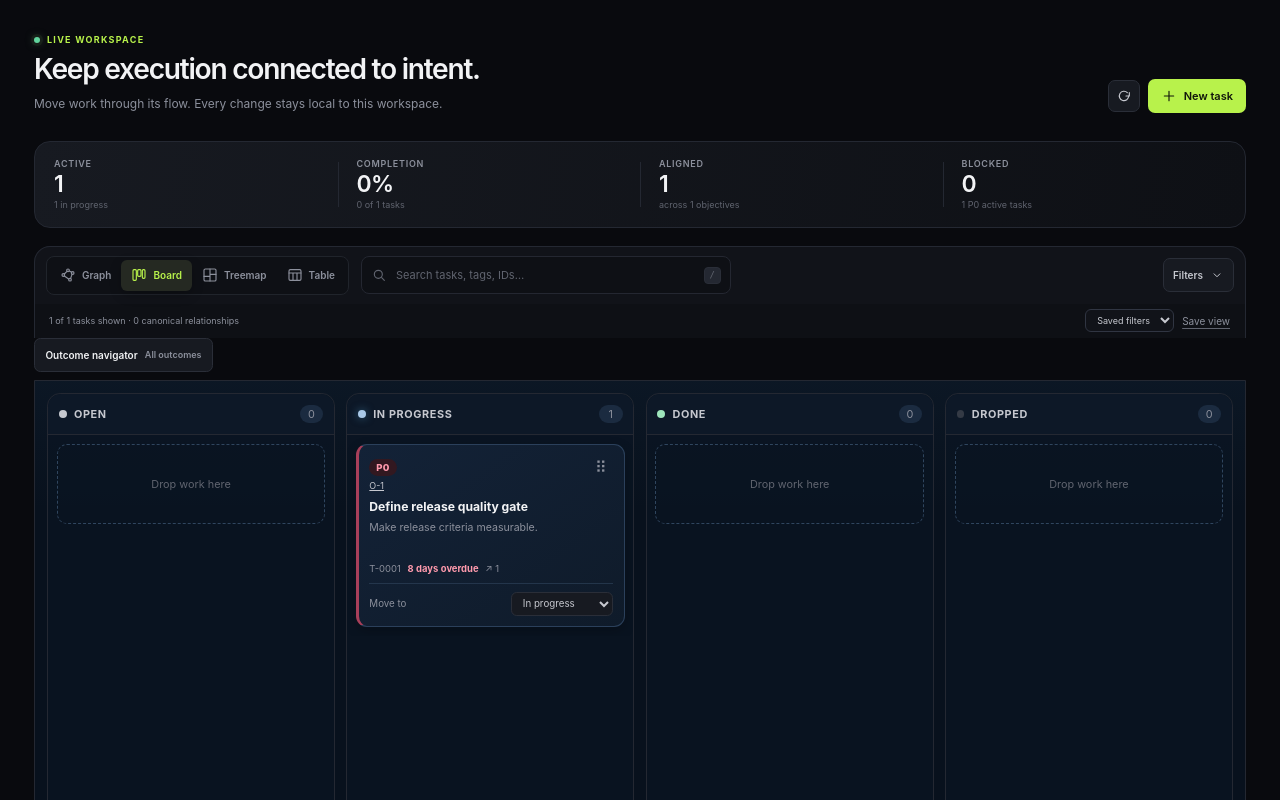
Test: WorkspacePage Board move-to-Done retention › rolls back a failed Done move instead of retaining it
Select "Done" in the dropdown labelled "Move to" at (562, 604), box [511,592,613,616]
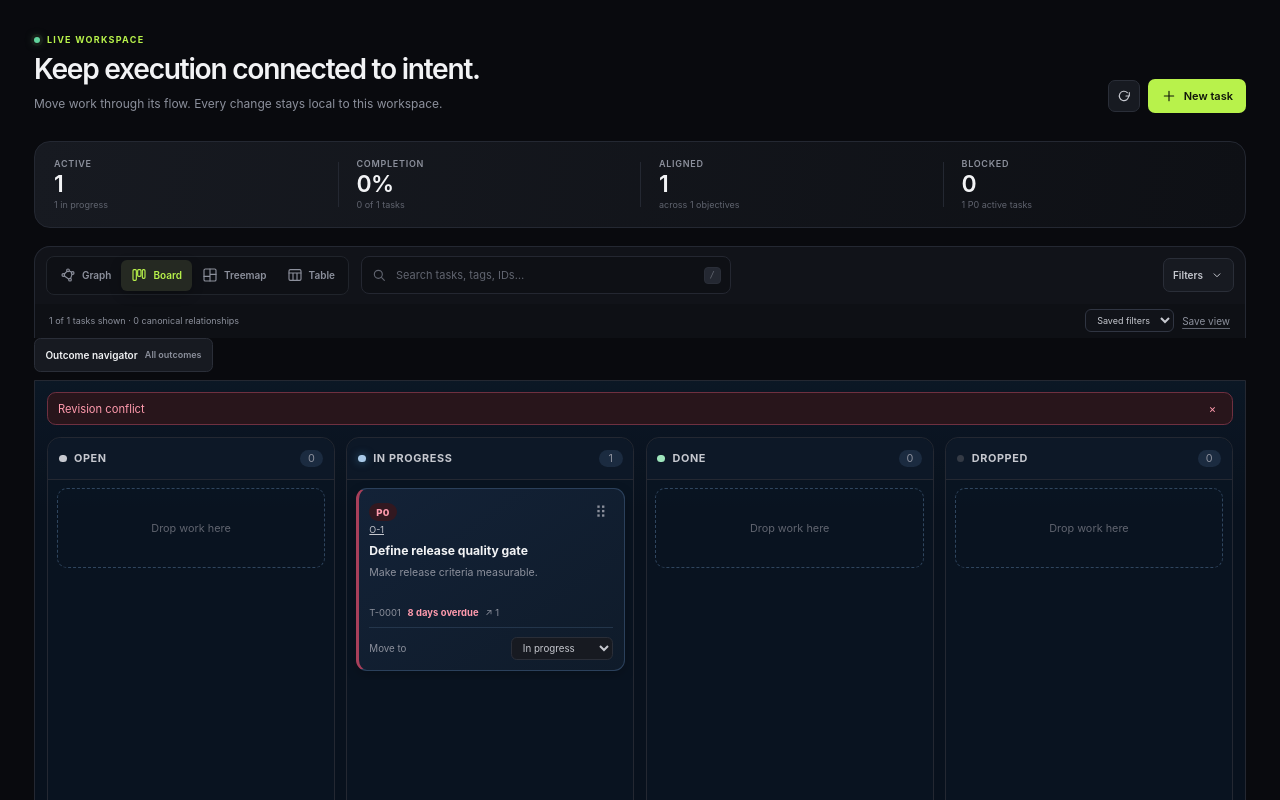
Result: the message shows "Revision conflict" at [58,402,145,416]
